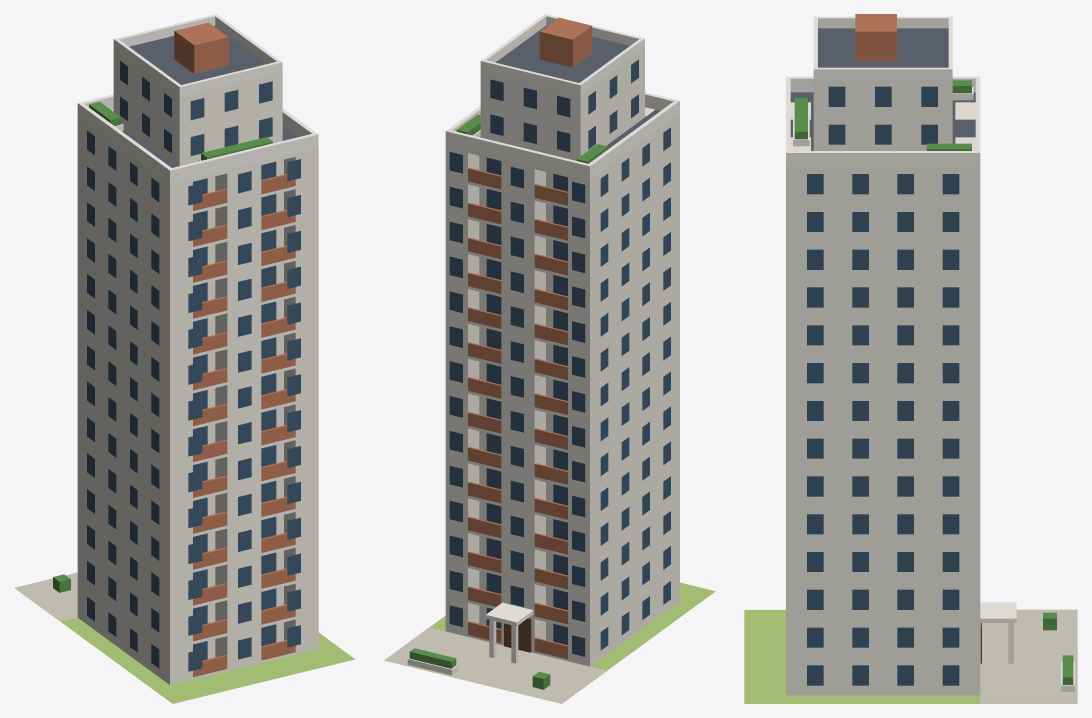
3 views of the same model, side by side, from view 1: azimuth 30°, elevation 25°; view 2: azimuth 150°, elevation 25°; view 3: azimuth 270°, elevation 25° (orthographic). The views are drawn at different scales.
Visible parts, largest first — view 1: tower, top, parapet (×6), lawn, roof, plant_room, plaza, hedge; view 2: tower, top, parapet (×6), plaza, roof, lawn, plant_room, canopy, door, hedge; view 3: tower, top, plaza, parapet (×5), lawn, roof (×2), plant_room, canopy, hedge.
Boxes of the visible parts, x1,y1,x2,y2 form: tower: [77, 116, 318, 685]; top: [113, 49, 282, 166]; parapet (×6): [80, 14, 318, 183]; lawn: [15, 588, 354, 703]; roof: [129, 26, 266, 84]; plant_room: [174, 22, 228, 73]; plaza: [15, 572, 77, 621]; hedge: [201, 137, 272, 160]; tower: [445, 114, 679, 666]; top: [480, 48, 644, 160]; parapet (×6): [445, 14, 677, 178]; plaza: [384, 627, 606, 703]; roof: [496, 25, 629, 82]; lawn: [384, 582, 715, 703]; plant_room: [539, 17, 592, 67]; canopy: [485, 602, 533, 626]; door: [504, 618, 531, 652]; hedge: [409, 648, 456, 668]; tower: [786, 166, 980, 695]; top: [813, 79, 952, 150]; plaza: [980, 609, 1077, 703]; parapet (×5): [790, 16, 980, 166]; lawn: [744, 610, 1077, 703]; roof (×2): [790, 28, 975, 150]; plant_room: [855, 14, 896, 61]; canopy: [980, 602, 1016, 622]; hedge: [794, 98, 807, 139].
Size of the model in its own units: 16 by 50.4 by 24.
